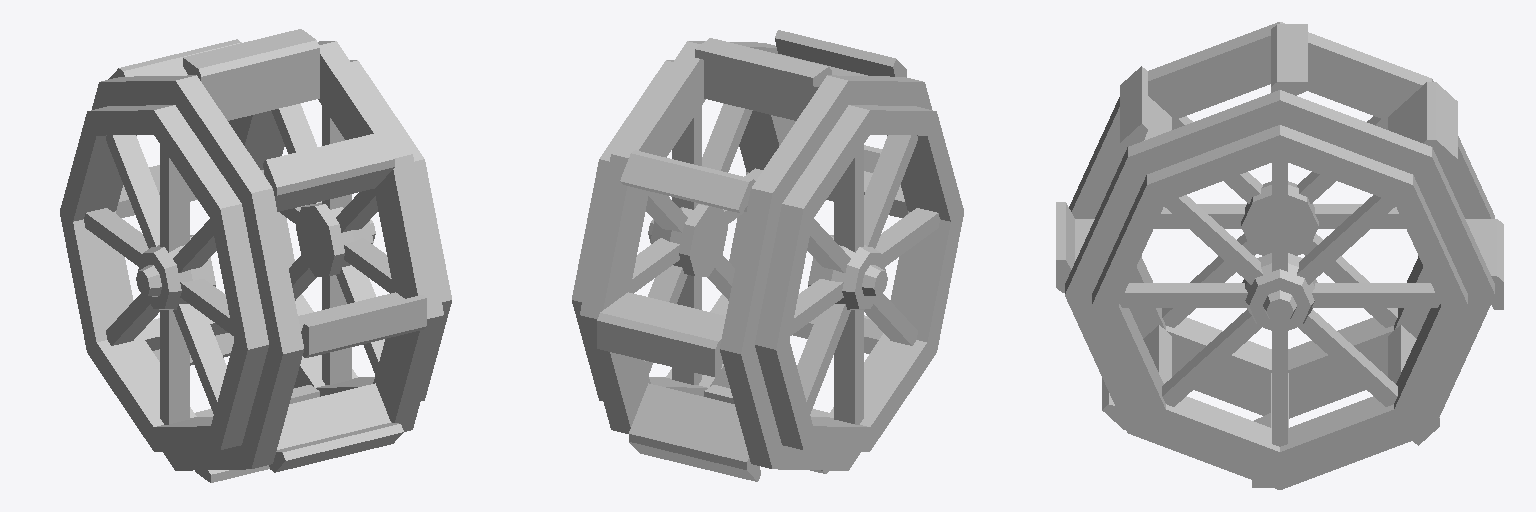
File: watermill-wide.obj
The picture shows the model from 3 angles: view 1: azimuth 30°, elevation 25°; view 2: azimuth 150°, elevation 25°; view 3: azimuth 270°, elevation 25°; orthographic projection.
Visible parts, largest first — view 1: watermill-wide; view 2: watermill-wide; view 3: watermill-wide.
Boxes of the visible parts, x1,y1,x2,y2 form: watermill-wide: [60, 29, 451, 482]; watermill-wide: [572, 30, 963, 481]; watermill-wide: [1056, 22, 1503, 489].
Size of the model in its own units: 1.05 by 1.8 by 1.8.